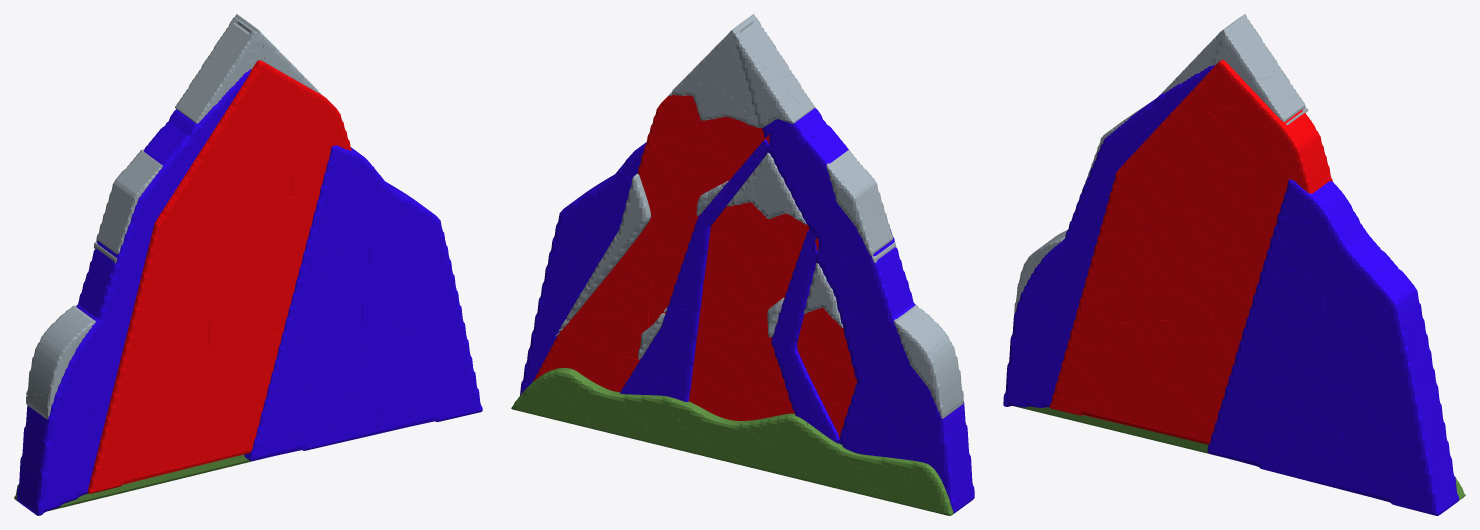
Rendered from Mountains.fbx.
3 renders of one model, left to right at view 1: azimuth 30°, elevation 25°; view 2: azimuth 150°, elevation 25°; view 3: azimuth 330°, elevation 25°, orthographic.
Visible parts, largest first — view 1: Base_cell.227, Snow_cell.024, Details_cell.216, Base_cell.167, Details_cell.245, Base_cell.066, Details_cell.190, Base_cell.179, Details_cell.088, Details_cell.055, Details_cell.006, Base_cell.028 (+103 smaller); view 2: Snow_cell.016, Grass_cell.007, Base_cell.233, Details_cell.130, Snow_cell.001, Details_cell.072, Snow_cell.024, Base_cell.152, Details_cell.133, Base_cell.114, Snow_cell.043, Snow_cell.040 (+106 smaller); view 3: Base_cell.227, Snow_cell.027, Details_cell.216, Details_cell.001, Base_cell.167, Details_cell.245, Details_cell.006, Base_cell.066, Base_cell.179, Details_cell.190, Details_cell.088, Base_cell.082 (+98 smaller).
Boxes of the visible parts, x1=… form: Base_cell.227: x1=120, y1=403, x2=188, y2=470; Snow_cell.024: x1=210, y1=18, x2=264, y2=95; Details_cell.216: x1=45, y1=387, x2=90, y2=449; Base_cell.167: x1=208, y1=346, x2=254, y2=410; Details_cell.245: x1=398, y1=278, x2=451, y2=338; Base_cell.066: x1=176, y1=184, x2=227, y2=239; Details_cell.190: x1=65, y1=352, x2=122, y2=406; Base_cell.179: x1=220, y1=150, x2=258, y2=226; Details_cell.088: x1=355, y1=264, x2=413, y2=303; Details_cell.055: x1=29, y1=444, x2=73, y2=498; Details_cell.006: x1=414, y1=278, x2=458, y2=352; Base_cell.028: x1=139, y1=238, x2=191, y2=291; Snow_cell.016: x1=719, y1=44, x2=767, y2=128; Grass_cell.007: x1=790, y1=427, x2=850, y2=487; Base_cell.233: x1=728, y1=205, x2=792, y2=262; Details_cell.130: x1=868, y1=351, x2=916, y2=414; Snow_cell.001: x1=921, y1=340, x2=959, y2=410; Details_cell.072: x1=863, y1=304, x2=904, y2=356; Snow_cell.024: x1=735, y1=14, x2=792, y2=78; Base_cell.152: x1=715, y1=116, x2=766, y2=164; Details_cell.133: x1=541, y1=257, x2=582, y2=315; Base_cell.114: x1=650, y1=202, x2=693, y2=256; Snow_cell.043: x1=837, y1=181, x2=880, y2=243; Snow_cell.040: x1=826, y1=150, x2=884, y2=213; Base_cell.227: x1=1079, y1=347, x2=1146, y2=416; Snow_cell.027: x1=1228, y1=14, x2=1274, y2=85; Details_cell.216: x1=1012, y1=289, x2=1053, y2=357; Details_cell.001: x1=1399, y1=373, x2=1434, y2=450; Base_cell.167: x1=1167, y1=336, x2=1212, y2=389; Details_cell.245: x1=1352, y1=350, x2=1406, y2=409; Details_cell.006: x1=1368, y1=369, x2=1419, y2=437; Base_cell.066: x1=1137, y1=145, x2=1185, y2=212; Base_cell.179: x1=1178, y1=137, x2=1216, y2=208; Details_cell.190: x1=1029, y1=275, x2=1084, y2=322; Details_cell.088: x1=1310, y1=315, x2=1368, y2=360; Base_cell.082: x1=1163, y1=382, x2=1200, y2=441.
Bounding box in the file's own units: 11.34 × 10.62 × 1.3.
